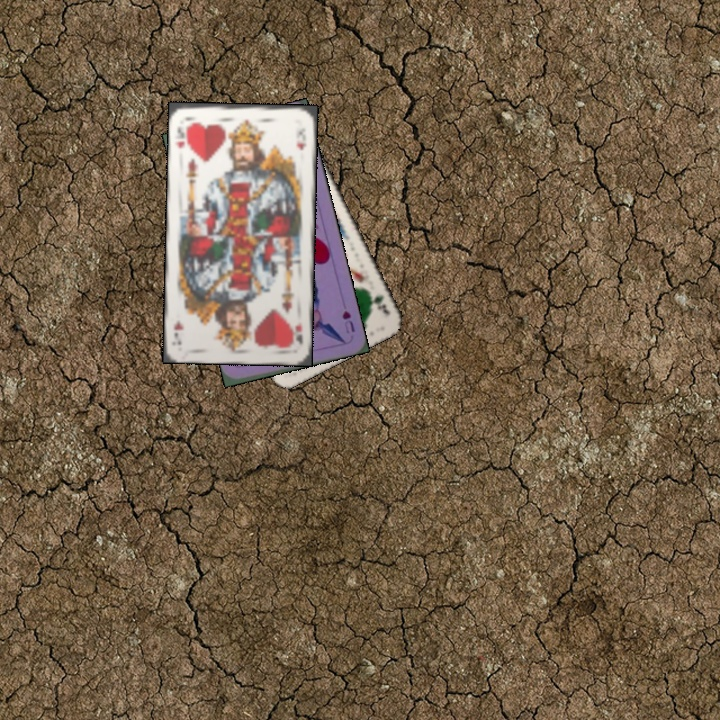GK: (370, 291, 393, 318)
HK: (171, 119, 191, 151), (291, 318, 305, 347)
HU: (338, 307, 357, 336)
